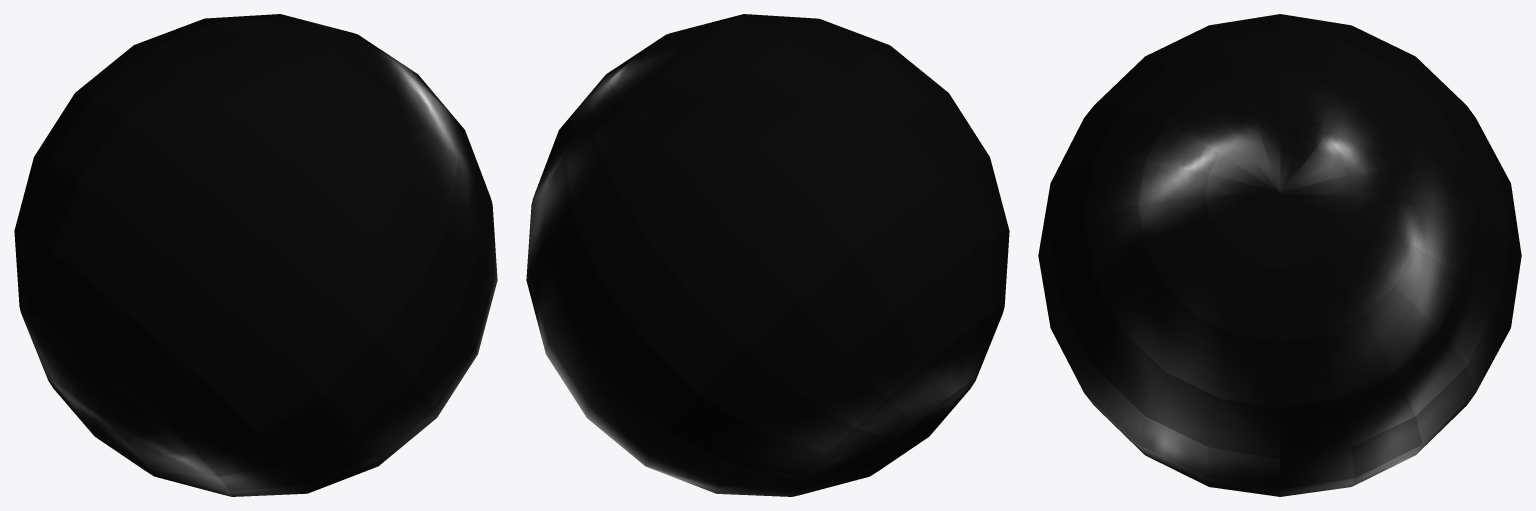
Rendered from holopsicon.obj.
3 renders of one model, left to right at view 1: azimuth 30°, elevation 25°; view 2: azimuth 150°, elevation 25°; view 3: azimuth 270°, elevation 25°, orthographic.
Visible parts, largest first — view 1: Name; view 2: Name; view 3: Name.
Part boxes in pixels (x1=…): Name: x1=14, y1=14, x2=497, y2=496; Name: x1=526, y1=14, x2=1009, y2=496; Name: x1=1038, y1=14, x2=1521, y2=496.
Size of the model in its own units: 158 by 158 by 158.
